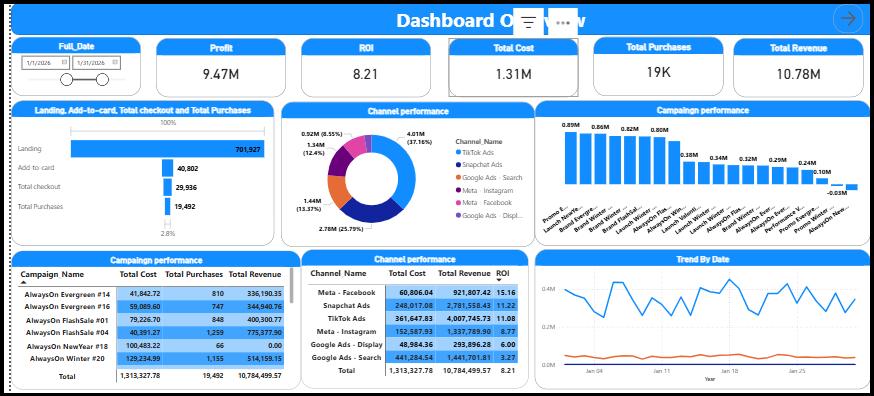

The page's visual inventory and layout, read from the dashboard file:
{"tool":"powerbi","page":{"name":"Page 1","canvas":[1720,780],"ordinal":0},"visuals":[{"type":"card","title":"Profit","fields":{"Values":["Dax.Profit"]},"box":[290,70,260,118],"z":0},{"type":"shape","title":"Dashboard Overveiw","box":[0,0,1920,64],"z":1000},{"type":"card","title":"Total Revenue","fields":{"Values":["Dax.Total Revenue"]},"box":[1444,70,260,118],"z":2000},{"type":"card","title":"ROI","fields":{"Values":["Dax.ROI"]},"box":[580,70,260,118],"z":3000},{"type":"card","title":"Total Cost","fields":{"Values":["Dax.Total Cost"]},"box":[874,70,260,118],"z":4000},{"type":"card","title":"Total Purchases","fields":{"Values":["Dax.Total Purchases"]},"box":[1164,68,260,118],"z":5000},{"type":"pivotTable","title":"Campaingn performance","fields":{"Rows":["Dim_Campaign.Campaign_Name"],"Values":["Dax.Total Cost","Dax.Total Purchases","Dax.Total Revenue"]},"box":[0,494,580,278],"z":6000},{"type":"pivotTable","title":"Channel performance","fields":{"Rows":["Dim_Channel.Channel_Name"],"Values":["Dax.Total Cost","Dax.Total Revenue","Dax.ROI"]},"box":[580,493.3,455,278.3],"z":7000},{"type":"funnel","fields":{"Y":["Dax.Landing","Dax.Add-to-card","Dax.Total checkout","Dax.Total Purchases"]},"box":[0,196,526,290],"z":8000},{"type":"donutChart","title":"Channel performance","fields":{"Category":["Dim_Channel.Channel_Name"],"Y":["Dax.Total Revenue"]},"box":[540,196.7,508.3,290],"z":9000},{"type":"columnChart","title":"Campaingn performance","fields":{"Category":["Dim_Campaign.Campaign_Name","Dim_Objective.Funnel_Stage"],"Y":["Dax.Profit"]},"box":[1048,196,672,290],"z":10000},{"type":"lineChart","title":"Trend By Date","fields":{"Category":["Dim_Date.Full_Date.Variation.Date Hierarchy.Year","Dim_Date.Full_Date.Variation.Date Hierarchy.Quarter","Dim_Date.Full_Date.Variation.Date Hierarchy.Month","Dim_Date.Full_Date.Variation.Date Hierarchy.Day"],"Y":["Dax.Total Revenue","Dax.Total Purchases","Dax.Total Cost"]},"box":[1048.3,493.3,671.7,280],"z":11000},{"type":"slicer","title":"Full_Date","fields":{"Values":["Dim_Date.Full_Date"]},"box":[0,68.3,260,118.3],"z":12000},{"type":"actionButton","box":[1645.6,3.3,58.9,57.8],"z":13000}]}

Visuals, with their boxes in screenshot pixels (x1, y1, x2, y2), scaled from the page's 1720x780 canvas onto the 874x396 screenshot:
"Profit" card: rect(147, 36, 279, 95)
"Dashboard Overveiw" shape: rect(0, 0, 873, 32)
"Total Revenue" card: rect(734, 36, 866, 95)
"ROI" card: rect(295, 36, 427, 95)
"Total Cost" card: rect(444, 36, 576, 95)
"Total Purchases" card: rect(591, 35, 724, 94)
"Campaingn performance" pivotTable: rect(0, 251, 295, 392)
"Channel performance" pivotTable: rect(295, 250, 526, 392)
funnel - Dax.Landing x Dax.Add-to-card: rect(0, 100, 267, 247)
"Channel performance" donutChart: rect(274, 100, 533, 247)
"Campaingn performance" columnChart: rect(533, 100, 873, 247)
"Trend By Date" lineChart: rect(533, 250, 873, 393)
"Full_Date" slicer: rect(0, 35, 132, 95)
actionButton: rect(836, 2, 866, 31)
